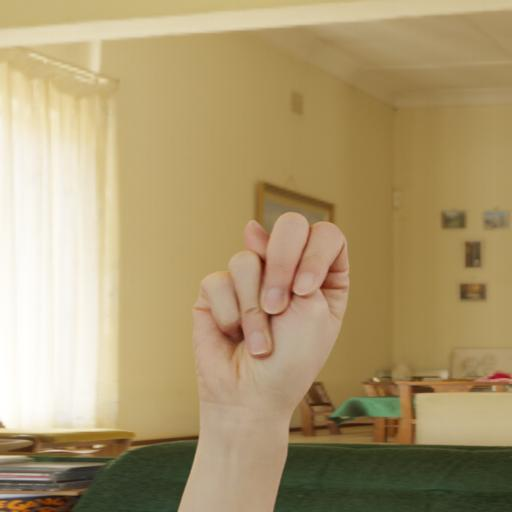K: (139, 176, 367, 459)
